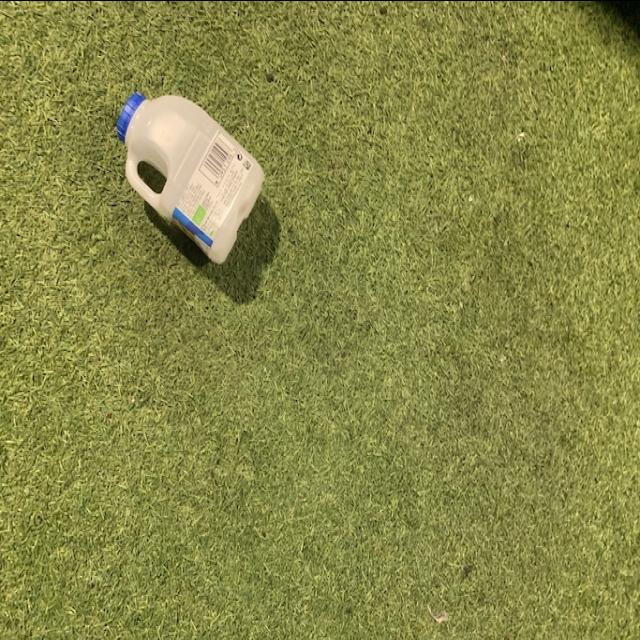HDPEM: (112, 84, 274, 270)
